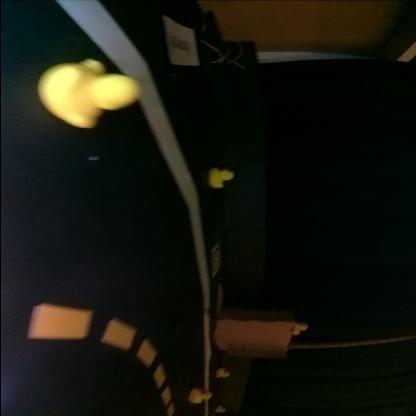Duckie: (41, 62, 138, 128), (209, 167, 234, 189), (189, 388, 211, 404), (292, 322, 309, 336), (216, 368, 230, 381)
QR code: (212, 243, 221, 275)
